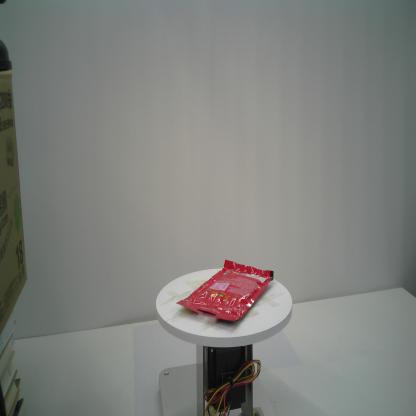Candy: (176, 259, 274, 322)
